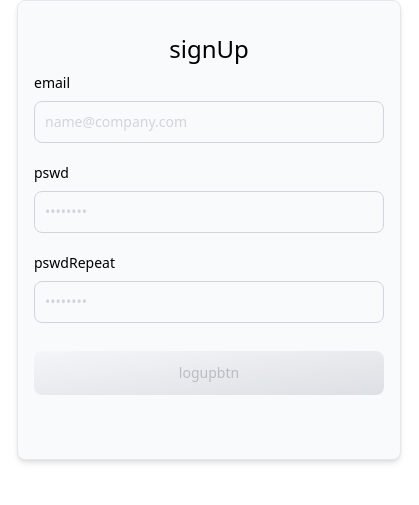
Test: RegisterForm › displays an error message on failed registration
Type "test@example.com" into the field labelled "email". click: (209, 122)
box: top-left (34, 101), bottom-right (384, 143)
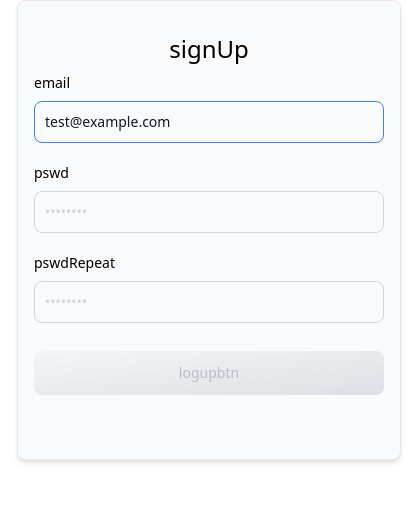
Type "Password123!" into the password field labelled "pswd". click: (209, 212)
box: top-left (34, 191), bottom-right (384, 233)
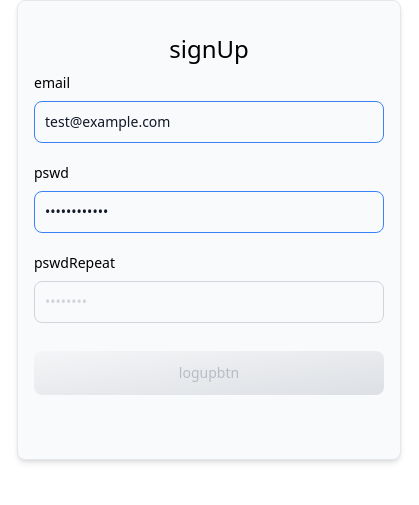
Submit the form from the button "logupbtn", box top-left (34, 351), bottom-right (384, 395)
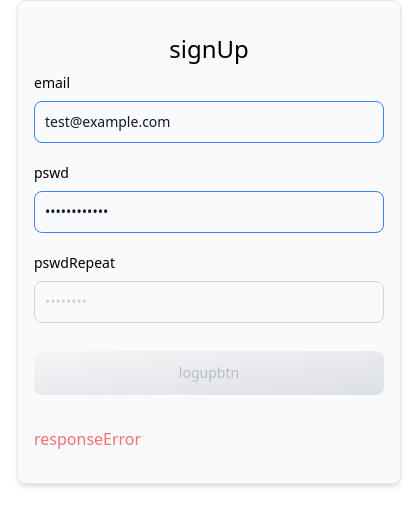
Expected: the text "responseError" is shown, top-left (34, 428), bottom-right (141, 450)
